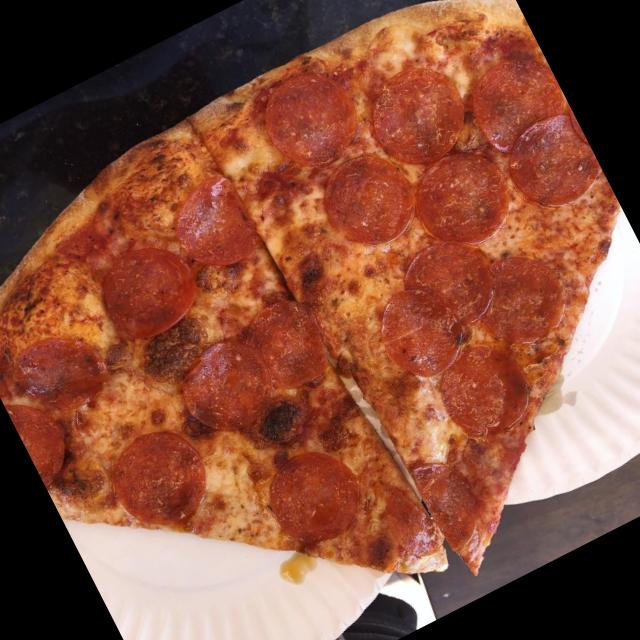pepperoni: (399, 136, 528, 266), (354, 54, 482, 182), (84, 223, 214, 349), (249, 59, 376, 184), (100, 415, 223, 544), (250, 433, 376, 558), (452, 242, 579, 364), (421, 329, 543, 452), (308, 139, 428, 260), (169, 329, 288, 450), (6, 312, 124, 430), (494, 105, 610, 222), (364, 272, 477, 392), (460, 43, 576, 158), (164, 168, 275, 284), (231, 286, 341, 401), (390, 228, 502, 339), (3, 382, 89, 493), (410, 450, 494, 556), (378, 476, 449, 566)
pizza: (0, 0, 624, 588)
